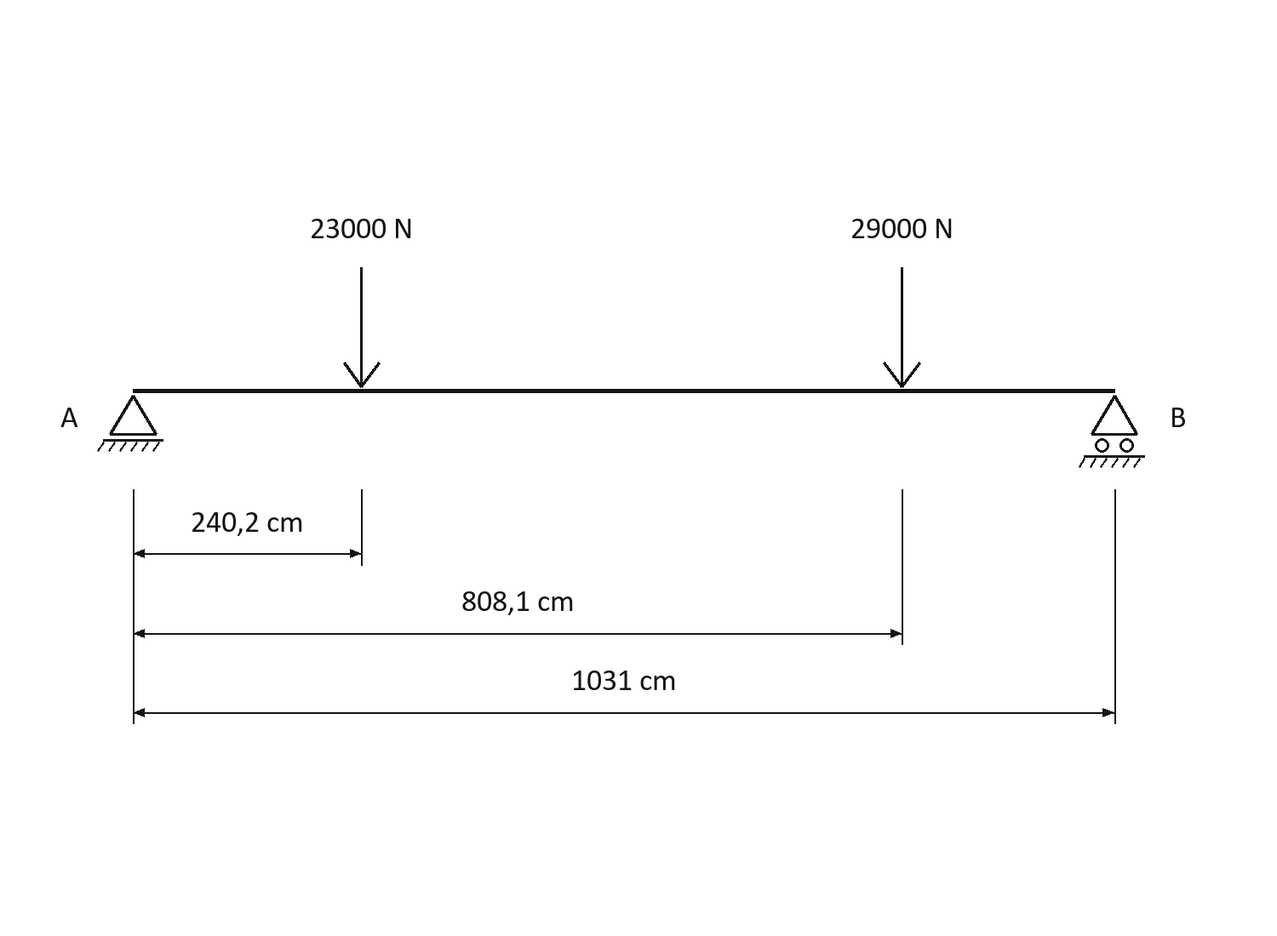pin_support: (97, 395, 163, 452)
point_load: (343, 267, 381, 388), (883, 267, 921, 388)
roller_support: (1079, 395, 1145, 468)
